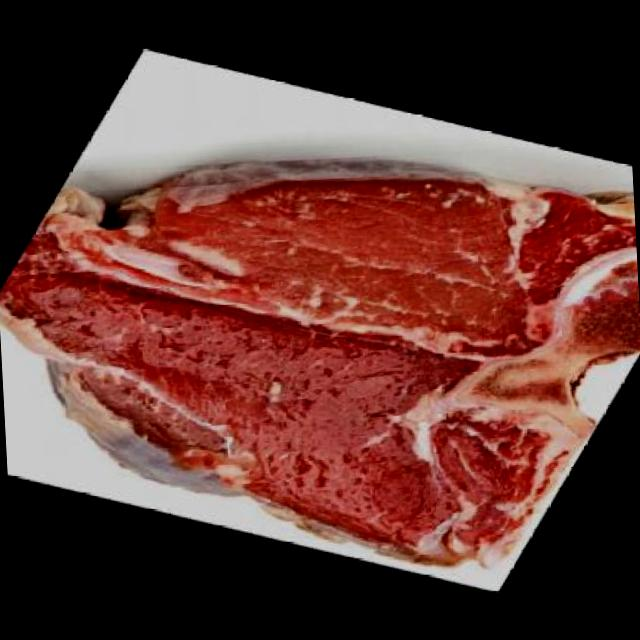beef: (0, 38, 640, 613)
